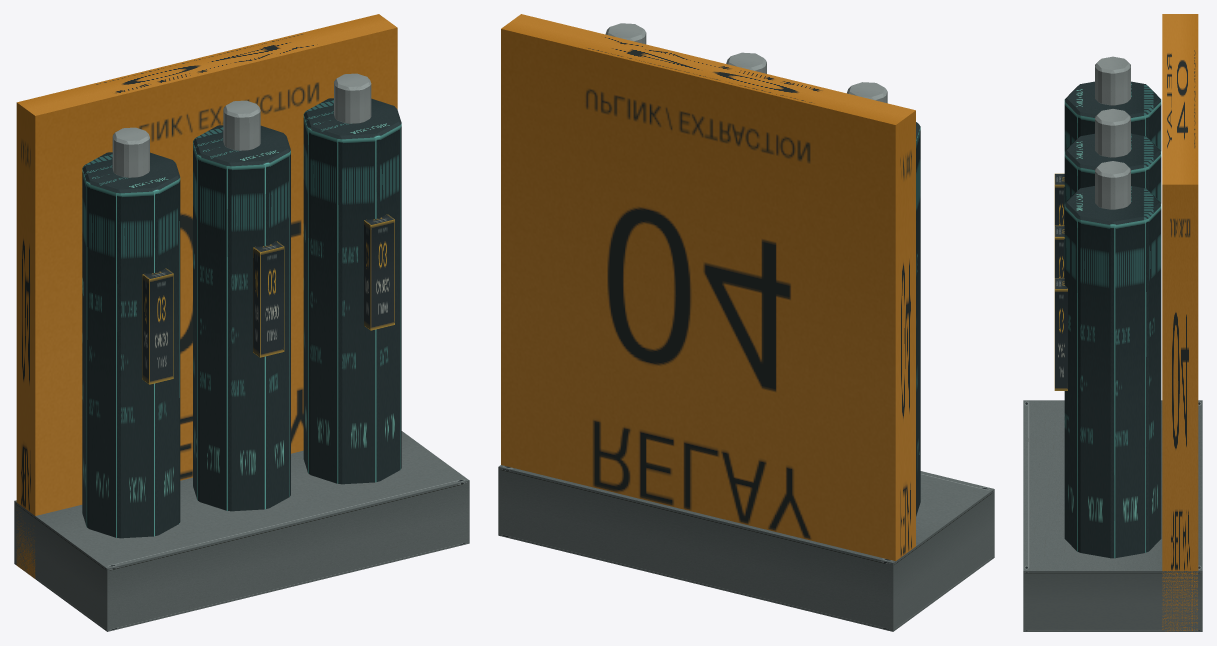
Rendered from oxygen_rack_LOD2.obj.
3 views of the same model, side by side, from view 1: azimuth 30°, elevation 25°; view 2: azimuth 150°, elevation 25°; view 3: azimuth 270°, elevation 25° (orthographic). The views are drawn at different scales.
Parts seen in each view (by area): view 1: L02_oxygen_rack_LOD2; view 2: L02_oxygen_rack_LOD2; view 3: L02_oxygen_rack_LOD2.
Boxes of the visible parts, x1,y1,x2,y2 form: L02_oxygen_rack_LOD2: (14, 14, 469, 631); L02_oxygen_rack_LOD2: (498, 14, 994, 631); L02_oxygen_rack_LOD2: (1023, 14, 1202, 631).
Size of the model in its own units: 1.8 by 2.2 by 0.8.
Materials: 1 (1 with a texture image).
